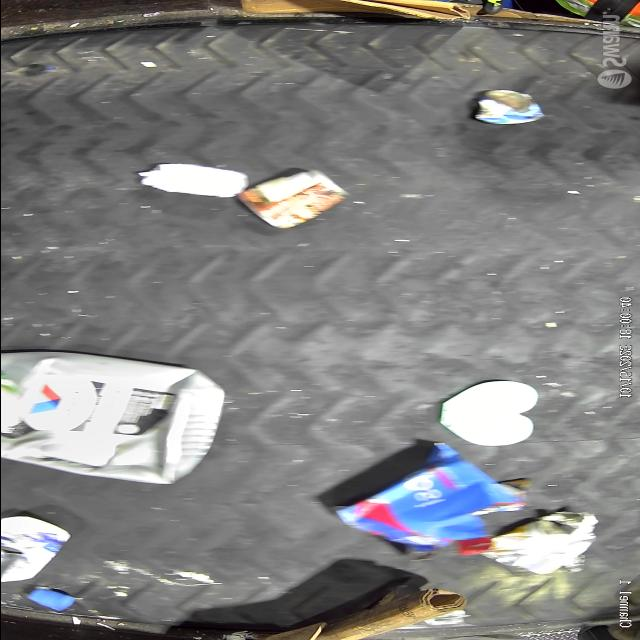can: (235, 169, 348, 230), (480, 520, 567, 568), (472, 88, 544, 125)
milk_jug: (0, 515, 70, 582)
non_white_jug: (0, 352, 226, 484), (334, 442, 530, 556)
